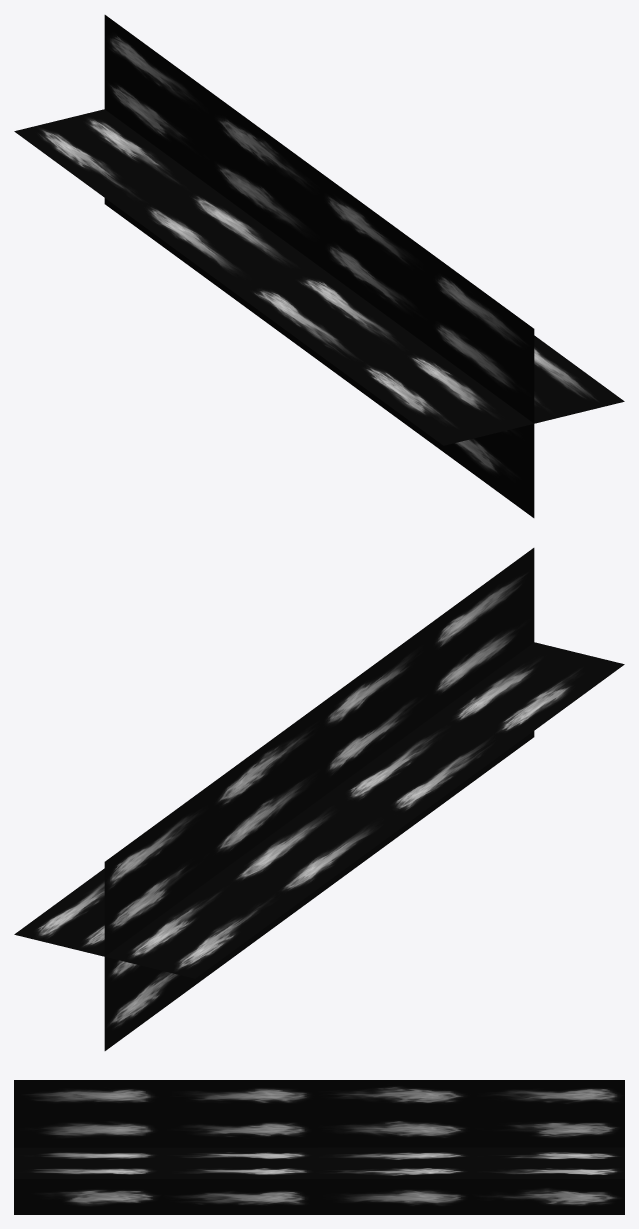
File: xuelangchangmao004.fbx
3 renders of one model, top to bottom at view 1: azimuth 30°, elevation 25°; view 2: azimuth 150°, elevation 25°; view 3: azimuth 270°, elevation 25°, orthographic. The views are drawn at different scales.
Parts seen in each view (by area): view 1: xuelangchangmao004; view 2: xuelangchangmao004; view 3: xuelangchangmao004.
Boxes of the visible parts, bbox=[...] form: xuelangchangmao004: bbox=[14, 15, 624, 517]; xuelangchangmao004: bbox=[14, 548, 624, 1050]; xuelangchangmao004: bbox=[14, 1080, 624, 1214].
Bounding box in the file's own units: 177 × 177 × 725.
